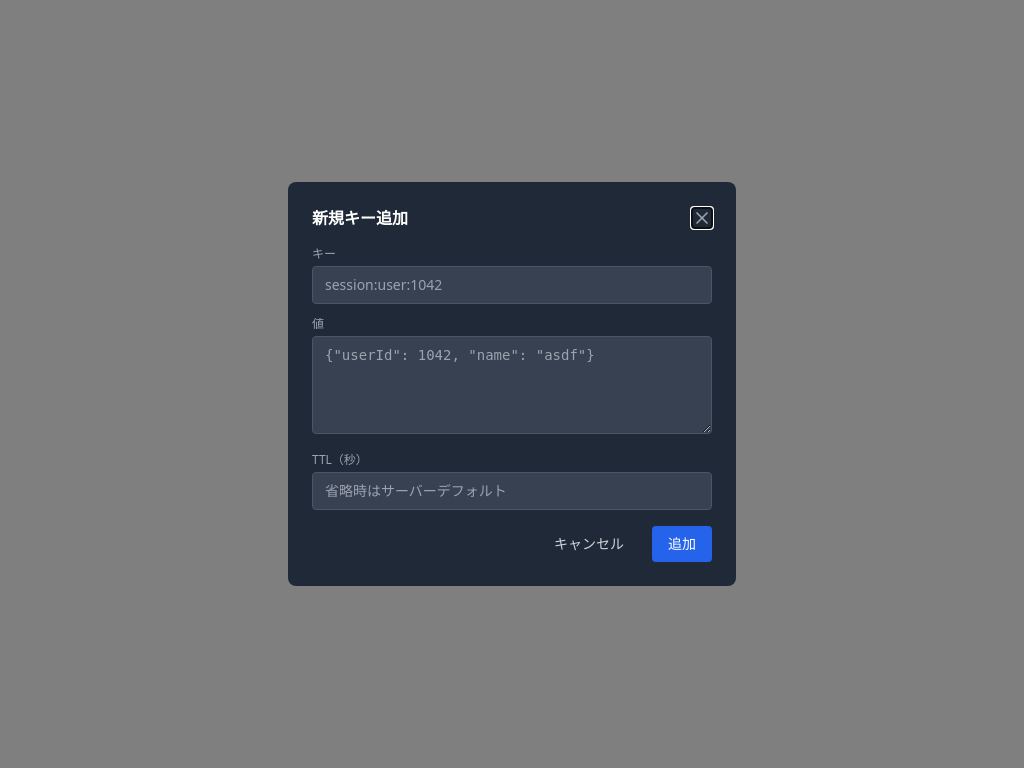
Test: AddKeyModal › shows error when submitting with empty key
Step 1. Click the button "追加" → (682, 544), box x1=652 y1=526 x2=712 y2=562
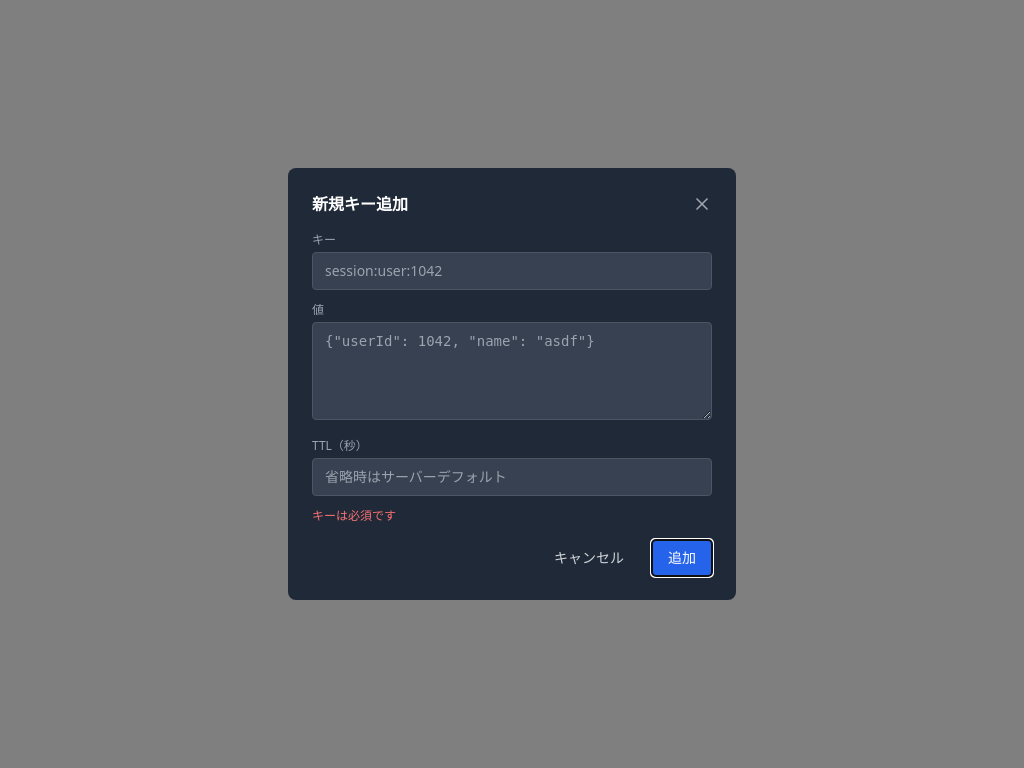
Result: the text "キーは必須です" is shown at x1=312 y1=507 x2=396 y2=524
